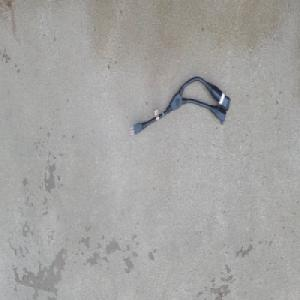Wire: (129, 75, 231, 137)
